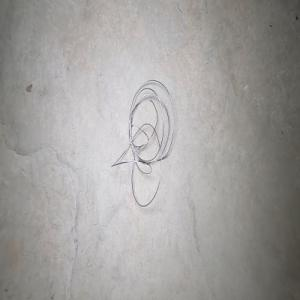Wire: (110, 79, 174, 207)
